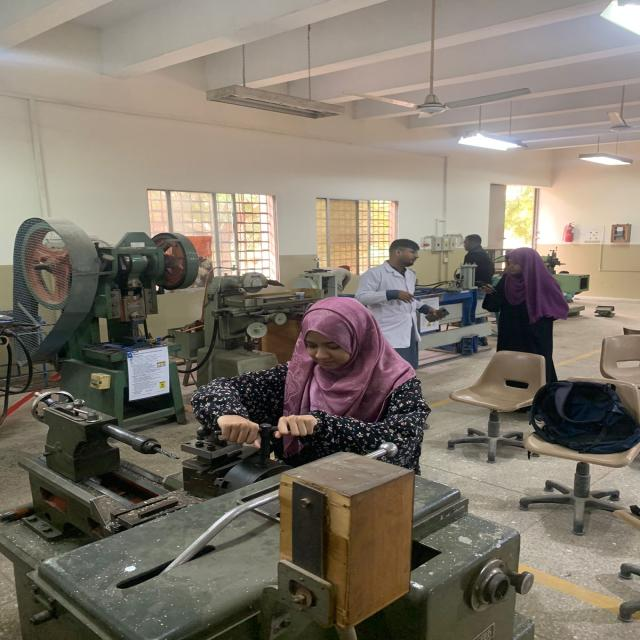labcoat: (350, 259, 425, 352)
